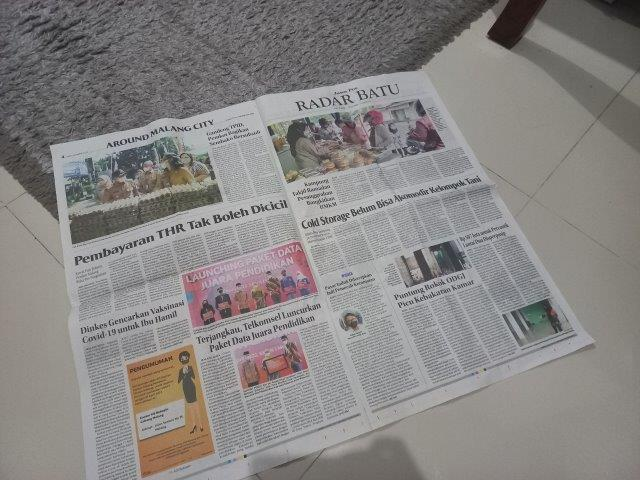kertas: (50, 70, 596, 480)
